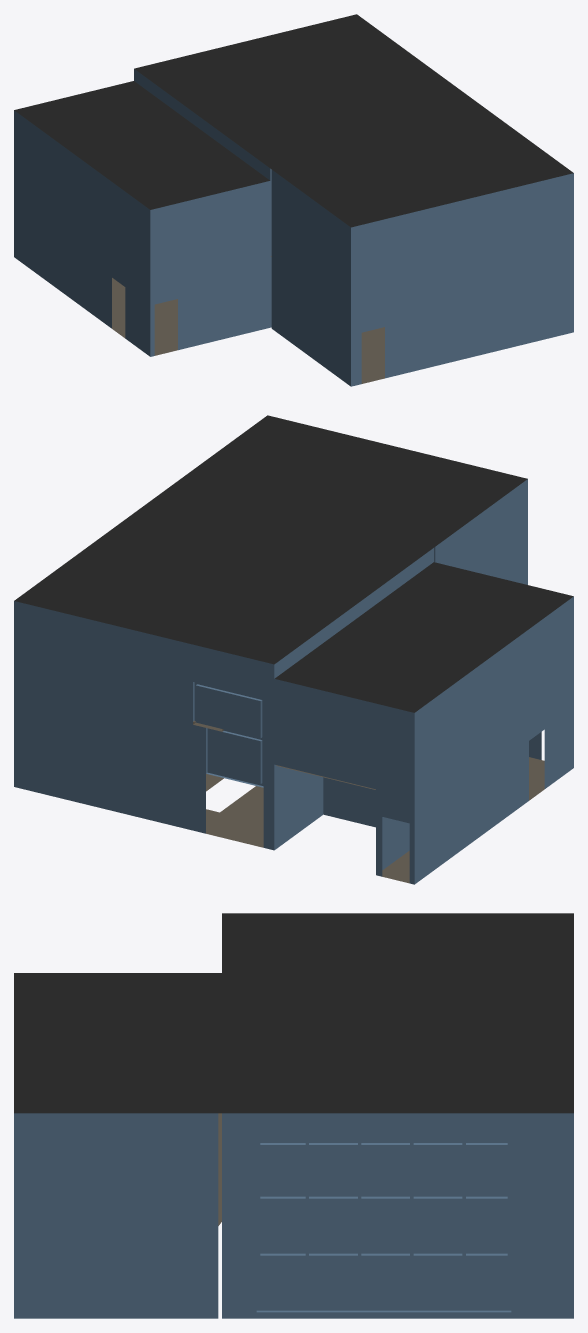
The model's file is Room-Boundaries.fbx.
The picture shows the model from 3 angles, top to bottom: view 1: azimuth 30°, elevation 25°; view 2: azimuth 150°, elevation 25°; view 3: azimuth 270°, elevation 25°; orthographic projection. The views are drawn at different scales.
Visible parts, largest first — view 1: Walls, roof, Floors; view 2: Walls, roof, Walls-Windows, Floors; view 3: roof, Walls, Walls-Windows.
Part boxes in pixels (x1,y1,x2,y2): Walls: (14,69,573,386); roof: (14,14,573,227); Floors: (112,278,384,383); Walls: (14,479,573,884); roof: (14,415,573,712); Walls-Windows: (195,685,260,783); Floors: (206,757,544,883); roof: (14,913,573,1113); Walls: (14,1113,573,1318); Walls-Windows: (260,1145,507,1309).
Size of the model in its own units: 1465 by 700 by 1606.
